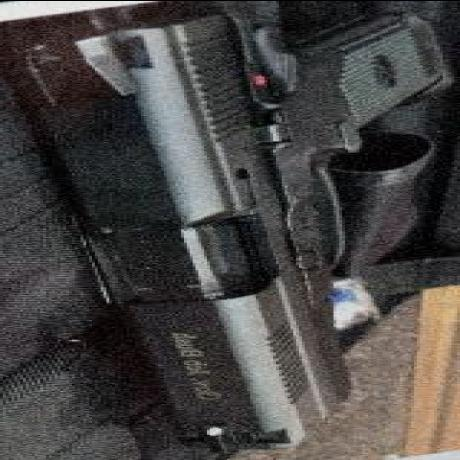weapon: (59, 8, 460, 440)
